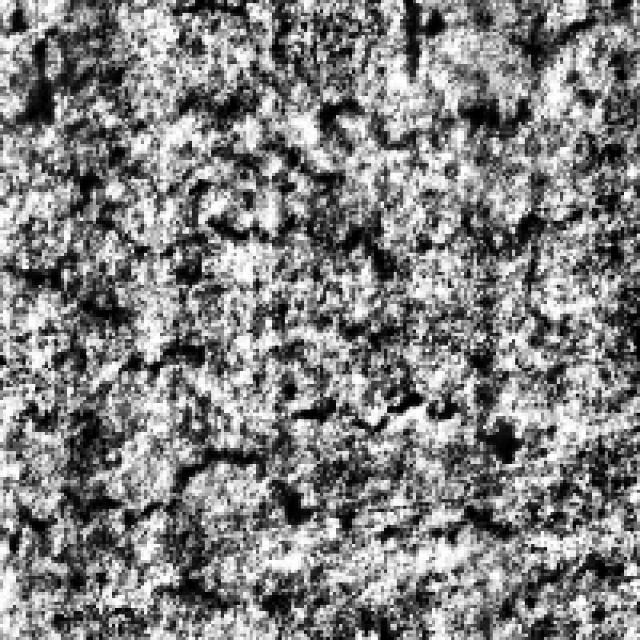Pitted_Surface: (0, 330, 506, 548), (35, 76, 461, 292), (394, 0, 602, 138)
